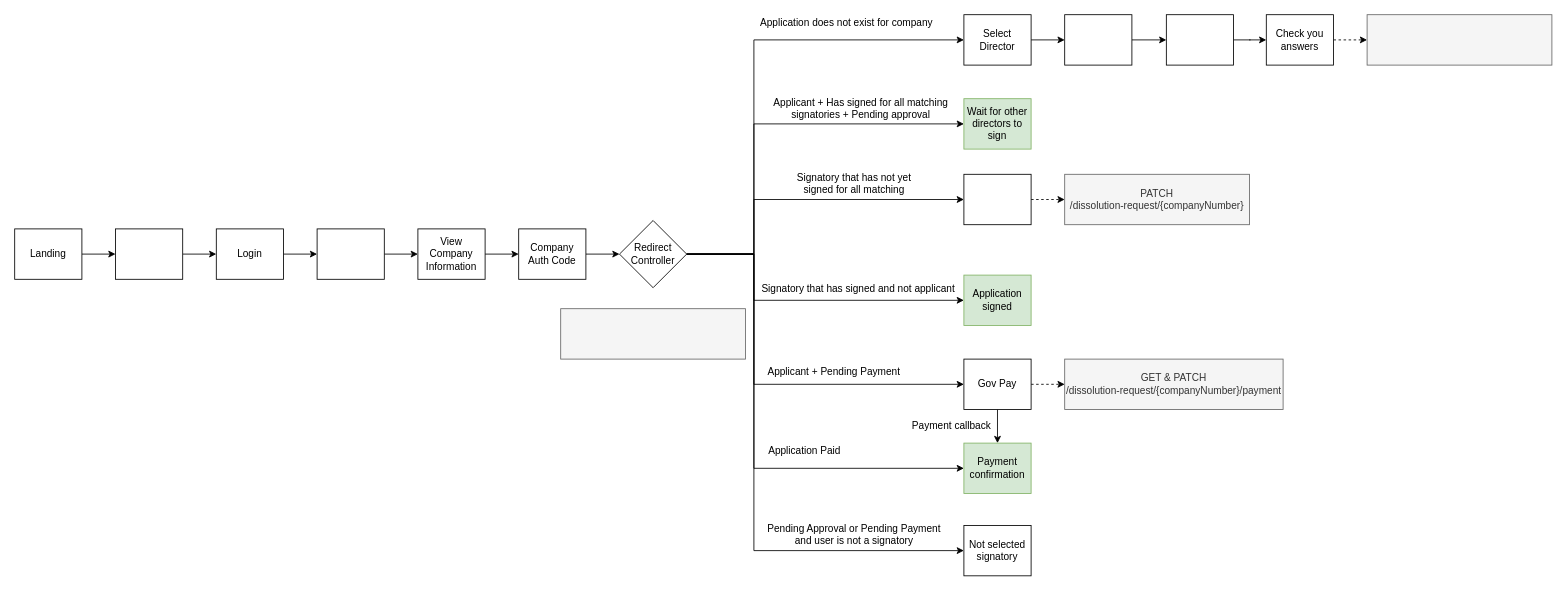
This 1567x591 diagram has some shape labels left out. The box of each missing label's shape, as (x1, y1, x2, y2) in pixels:
Define signatory information: (1166, 14, 1234, 65)
GET /dissolution-request/{companyNumber}: (560, 308, 746, 359)
POST /dissolution-request/{companyNumber}: (1366, 14, 1552, 65)
Search company: (316, 228, 384, 279)
Select other signatories: (1064, 14, 1132, 65)
View and approve certificate: (963, 173, 1031, 225)
Who to tell: (115, 228, 183, 279)
